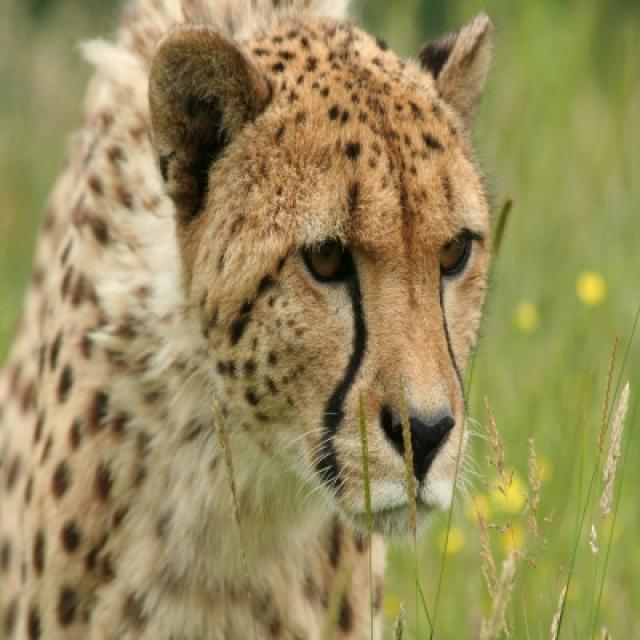Cheetah: (0, 0, 502, 638)
